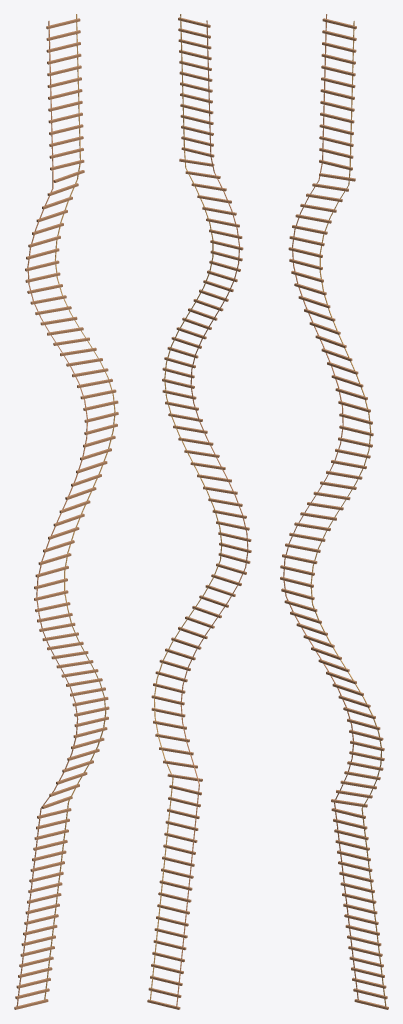
Rendered from Spike_Rush.fbx.
3 renders of one model, left to right at view 1: azimuth 30°, elevation 25°; view 2: azimuth 150°, elevation 25°; view 3: azimuth 330°, elevation 25°, orthographic. The views are drawn at different scales.
Visible parts, largest first — view 1: Spike_Rush; view 2: Spike_Rush; view 3: Spike_Rush.
Boxes of the visible parts, <box> form: Spike_Rush: <box>14,14,118,1009</box>; Spike_Rush: <box>147,14,251,1009</box>; Spike_Rush: <box>280,14,388,1009</box>.
Size of the model in its own units: 6.4 by 70.08 by 6.2.
